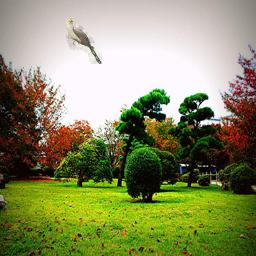Cuckoo: (66, 18, 102, 64)
